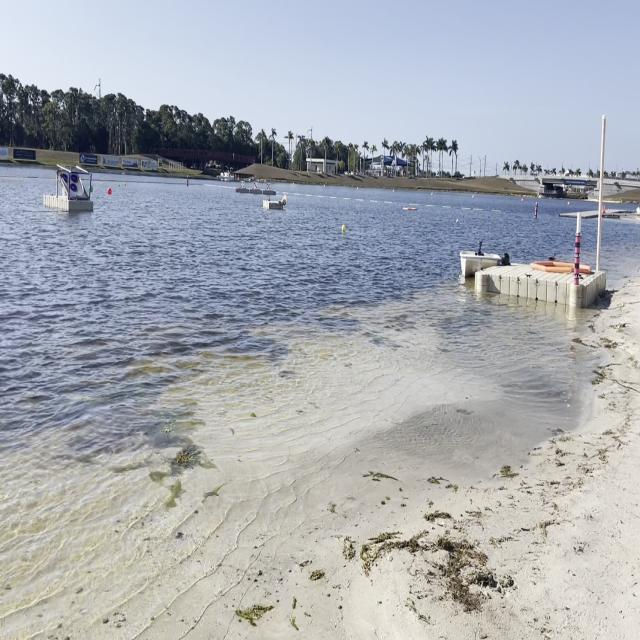buoy: (341, 221, 346, 232), (108, 182, 112, 192)
